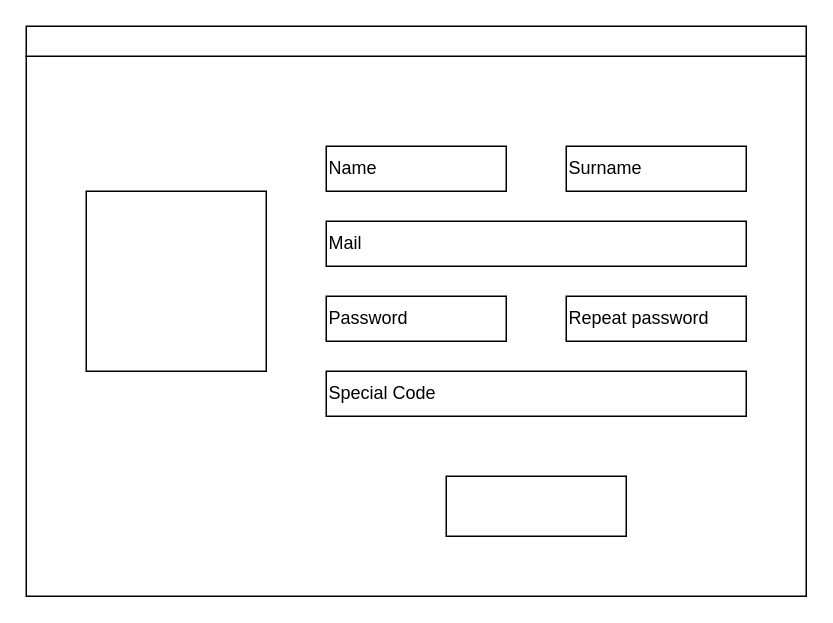
Image size: 833x623. Some labels were removed from this diagram. The centre of each missing label's shape, as x and y in pixels:
"Company logo" belongs at pixel 175 280.
"SIGN IN" belongs at pixel 535 505.
